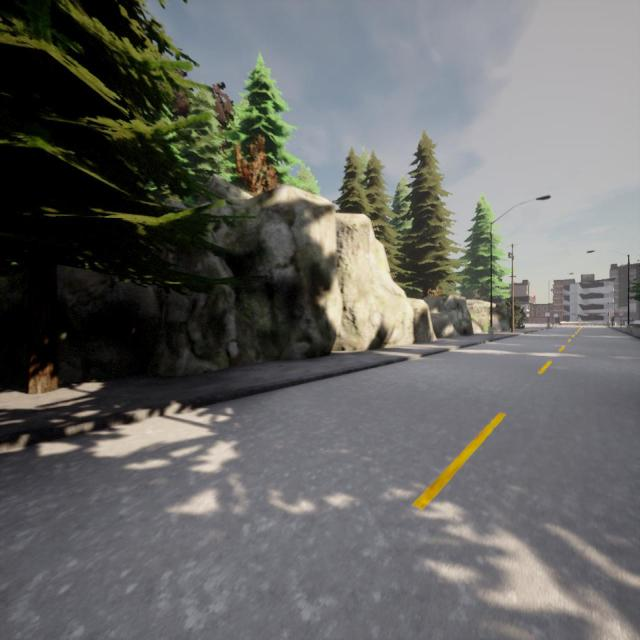Traffic_Signs: (619, 310, 624, 317), (610, 312, 615, 318), (545, 312, 550, 318), (554, 313, 558, 318)
